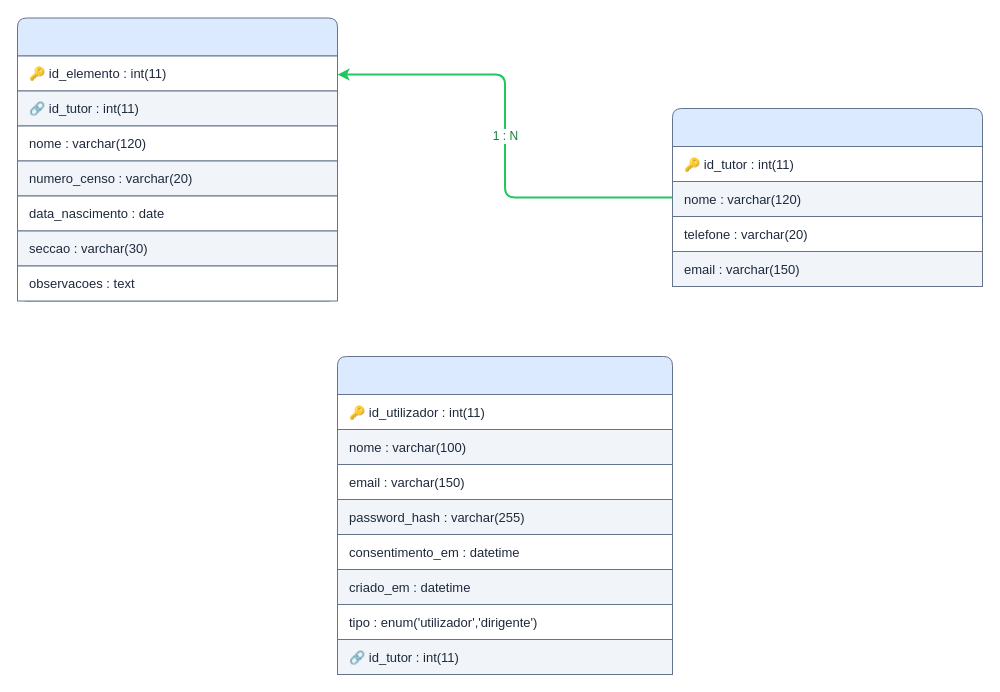
Some shapes in this 1000 by 692 pixel diagram are drawn without their labels. The box of each missing label's shape, as (x1, y1, x2, y2) in pixels:
elementos: (16, 17, 338, 301)
tutores: (672, 108, 982, 286)
utilizadores: (336, 356, 672, 674)
